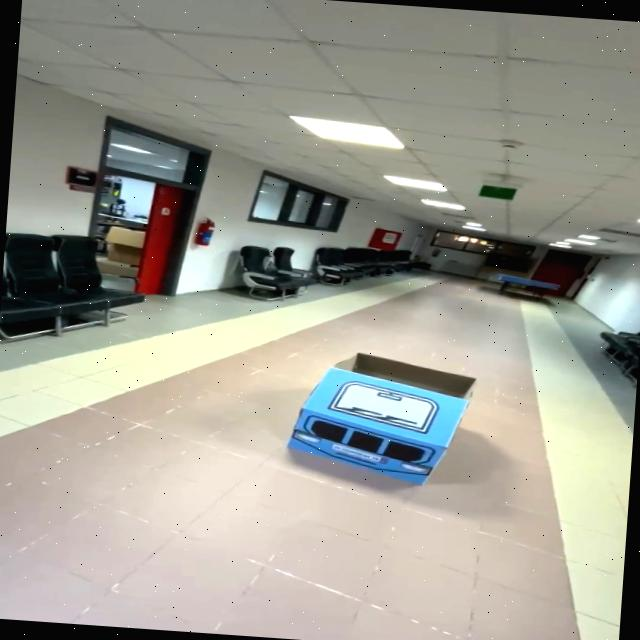blue_car: (274, 321, 495, 519)
